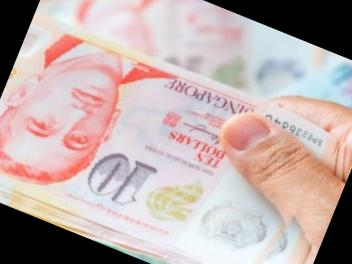10SingaporeDollar: (0, 12, 344, 264)
